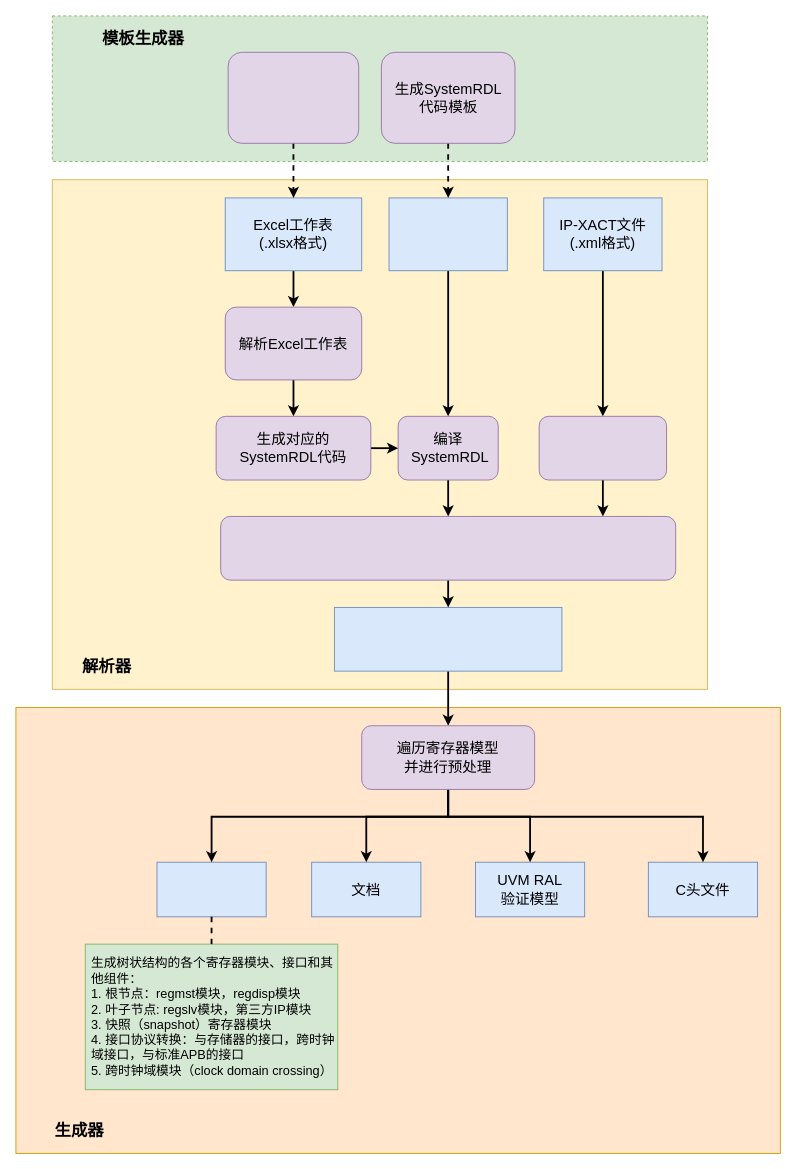
The diagram is 796 pixels wide and 1169 high, and some of its shapes have lost their labels. Each missing label, with the box of its shape:
System Verilog RTL代码: (156, 861, 266, 917)
SystemRDL files (.rdl格式): (388, 197, 507, 271)
分层级的寄存器模型: (334, 607, 562, 671)
导入IP-XACT: (538, 415, 667, 480)
生成Excel 工作表模板: (227, 51, 359, 143)
联合解析: (220, 516, 676, 580)
